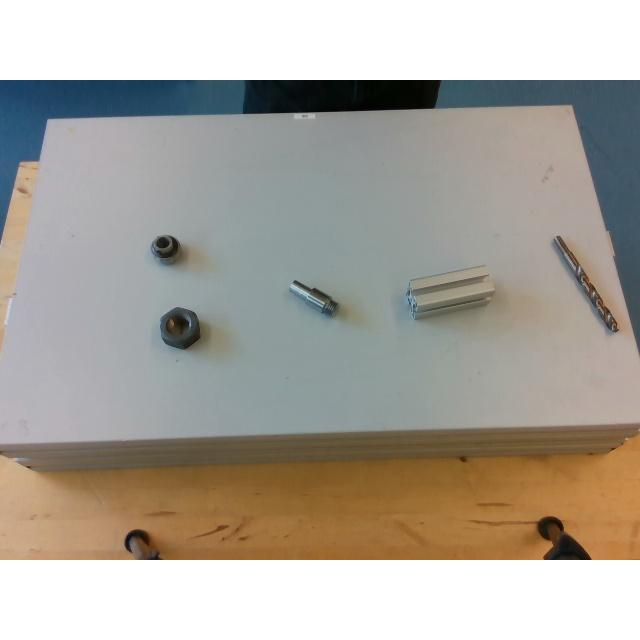Axis2: (288, 280, 336, 316)
Bearing2: (150, 236, 178, 260)
Drill: (554, 236, 618, 330)
M30: (160, 307, 200, 347)
S40_40_G: (406, 266, 494, 318)
